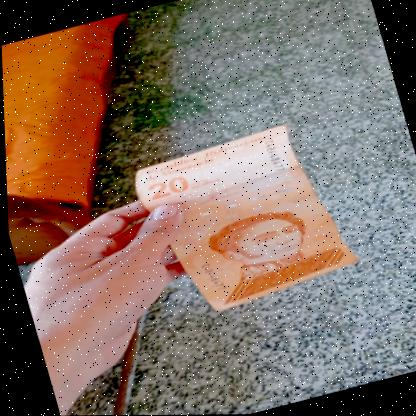twenty-front-vef: (125, 116, 362, 326)
